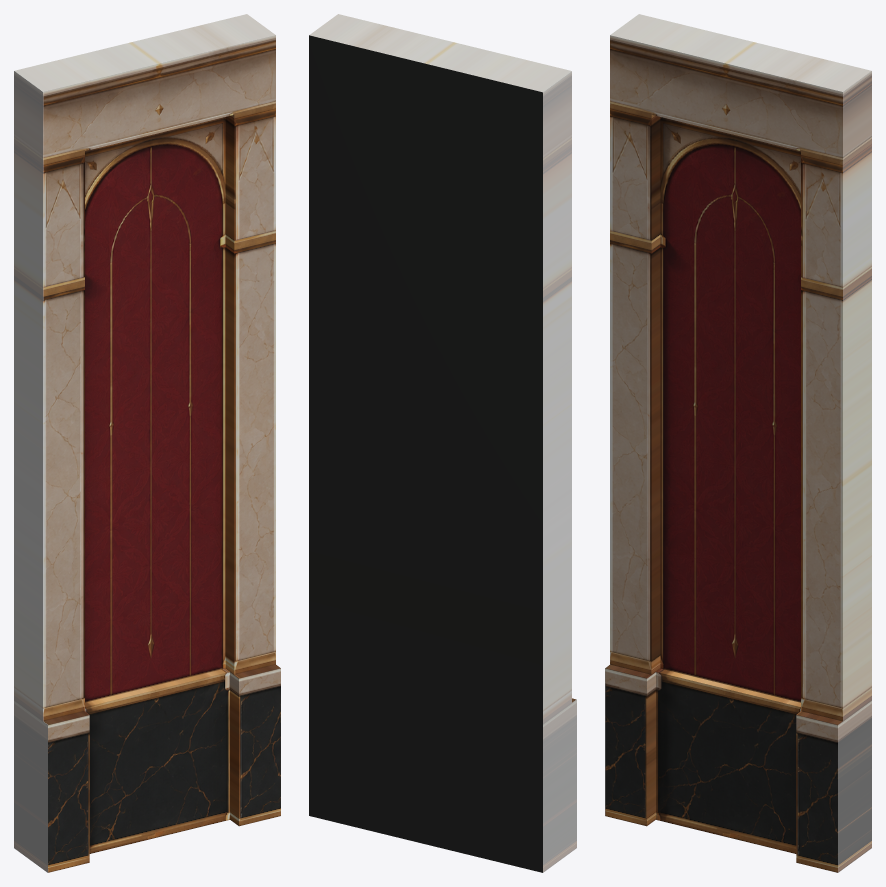
File: Wall_02.glb
The picture shows the model from 3 angles, left to right: view 1: azimuth 30°, elevation 25°; view 2: azimuth 150°, elevation 25°; view 3: azimuth 330°, elevation 25°; orthographic projection.
Visible parts, largest first — view 1: Wall_02; view 2: Wall_02; view 3: Wall_02.
Part boxes in pixels (x1,y1,x2,y2): Wall_02: [14, 14, 280, 872]; Wall_02: [309, 14, 576, 872]; Wall_02: [605, 14, 871, 872].
Bounding box in the file's own units: 2.89 × 9.21 × 0.7253.
1 material, 1 textured.
